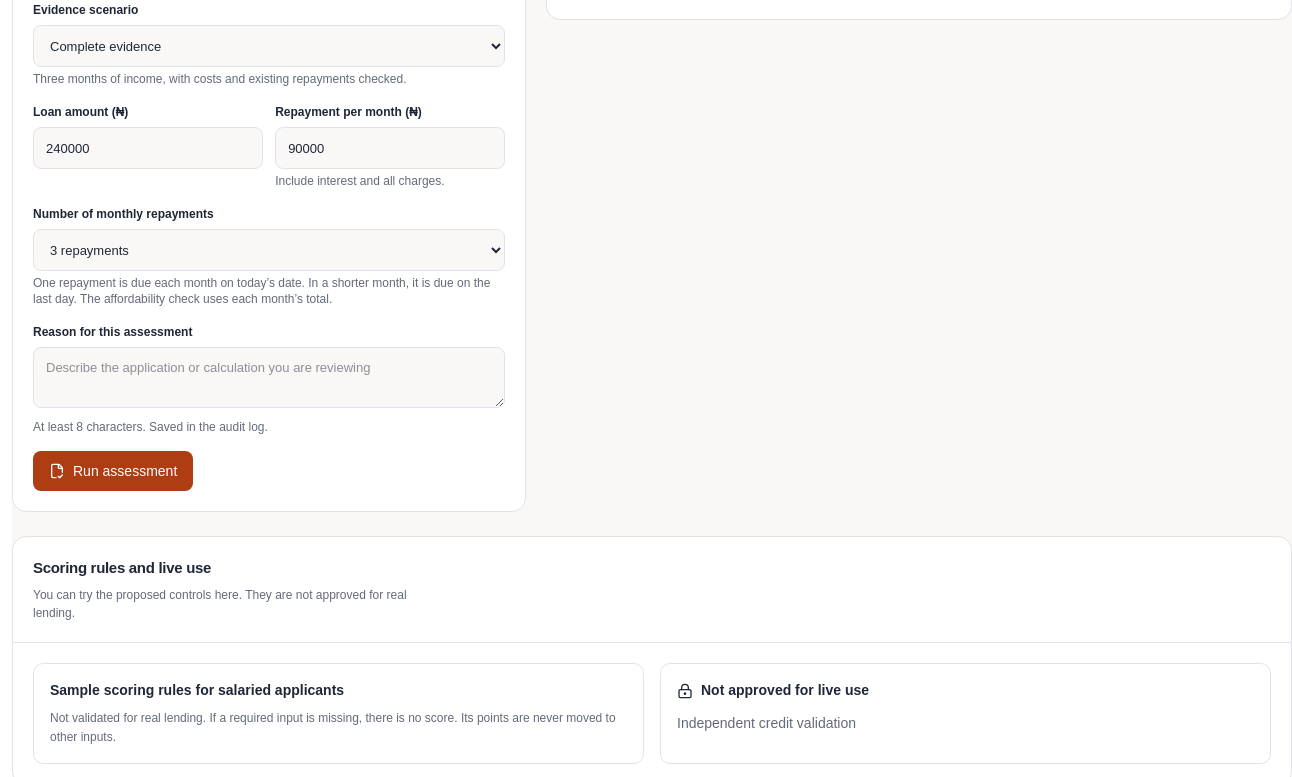
Scenario: Credit Desk synthetic journeys › submits explicit terms in integer kobo only after the operator gives a reason
(page scrolled)
Type "Check affordability for the sample application" into the text box labelled "Reason for this assessment" at x=269, y=378, box [33,347,505,408]
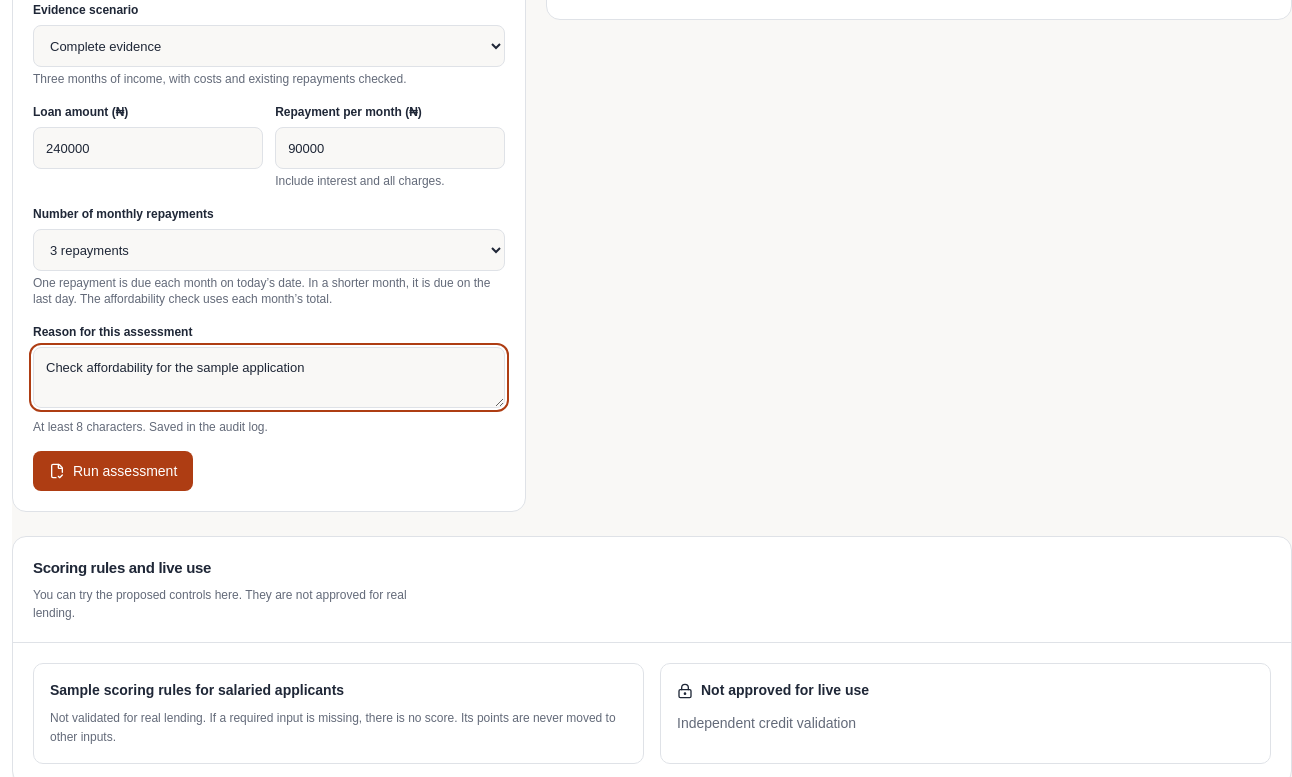
Click the button "Run assessment" at x=113, y=471, box [33,451,193,491]
(page scrolled)
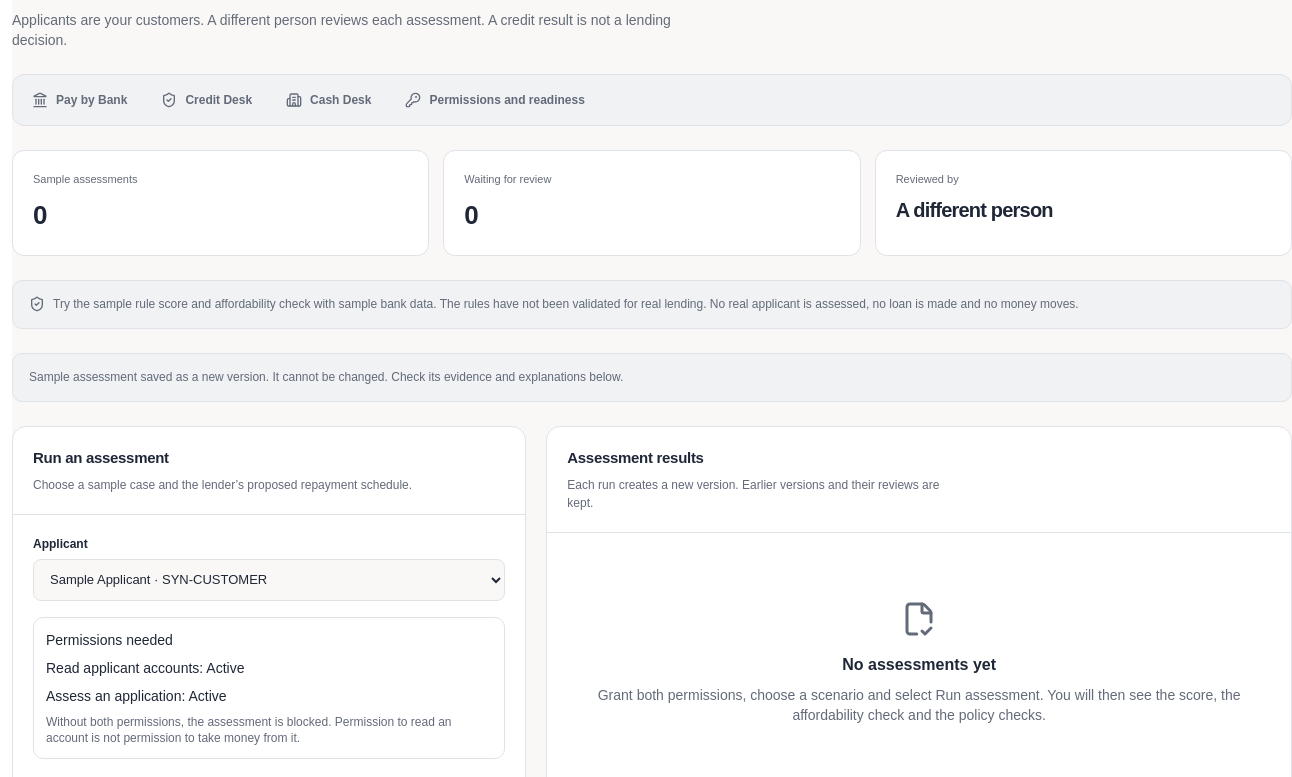
Expected: the message shows "Sample assessment saved as a new version", [29,370,623,384]
